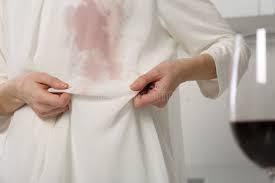oil: (67, 6, 127, 78)
